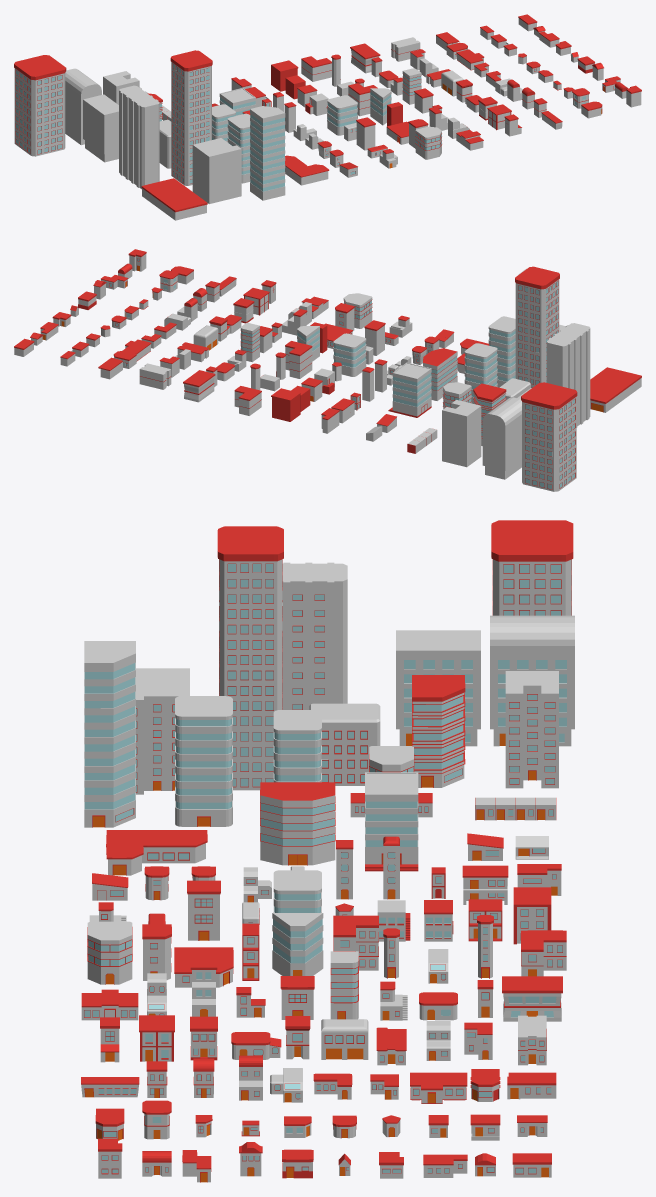
Rendered from 100_lowpoly_buildings__buildings_pack.glb.
The picture shows the model from 3 angles, top to bottom: view 1: azimuth 30°, elevation 25°; view 2: azimuth 150°, elevation 25°; view 3: azimuth 270°, elevation 25°; orthographic projection. The views are drawn at different scales.
Visible parts, largest first — view 1: Building 100, Building 92, Building 97, Building 86, Building 91, Building 98, Building 96, Building 99, Building 87, Building 65, Building 81, Building 51 (+26 smaller); view 2: Building 100, Building 92, Building 97, Building 99, Building 95, Building 83, Building 96, Building 87, Building 88, Building 82, Building 65, Building 56 (+27 smaller); view 3: Building 92, Building 86, Building 97, Building 100, Building 87, Building 99, Building 82, Building 95, Building 98, Building 94, Building 91, Building 83 (+54 smaller).
Part boxes in pixels (bbox=[...]): Building 100: bbox=[14, 55, 66, 156]; Building 92: bbox=[170, 50, 212, 185]; Building 97: bbox=[119, 85, 159, 189]; Building 86: bbox=[250, 106, 285, 200]; Building 91: bbox=[192, 138, 241, 203]; Building 98: bbox=[83, 94, 118, 162]; Building 96: bbox=[141, 178, 207, 220]; Building 99: bbox=[65, 68, 101, 145]; Building 87: bbox=[227, 113, 250, 183]; Building 65: bbox=[327, 95, 357, 135]; Building 81: bbox=[285, 155, 329, 185]; Building 51: bbox=[415, 126, 441, 159]; Building 100: bbox=[521, 382, 577, 491]; Building 92: bbox=[515, 266, 559, 387]; Building 97: bbox=[546, 323, 590, 427]; Building 99: bbox=[482, 397, 521, 479]; Building 95: bbox=[442, 400, 481, 467]; Building 83: bbox=[388, 362, 431, 417]; Building 96: bbox=[590, 367, 641, 412]; Building 87: bbox=[488, 316, 515, 387]; Building 88: bbox=[464, 343, 497, 403]; Building 82: bbox=[423, 348, 457, 400]; Building 65: bbox=[333, 333, 366, 376]; Building 56: bbox=[285, 341, 312, 378]; Building 92: bbox=[217, 526, 283, 790]; Building 86: bbox=[84, 641, 135, 827]; Building 97: bbox=[282, 562, 347, 709]; Building 100: bbox=[491, 520, 573, 615]; Building 87: bbox=[175, 696, 232, 826]; Building 99: bbox=[490, 615, 574, 746]; Building 82: bbox=[260, 782, 335, 865]; Building 95: bbox=[505, 671, 558, 788]; Building 98: bbox=[396, 630, 480, 746]; Building 94: bbox=[412, 675, 465, 787]; Building 91: bbox=[136, 668, 189, 794]; Building 83: bbox=[365, 772, 418, 871].
Size of the model in its own units: 253 by 55.63 by 105.
